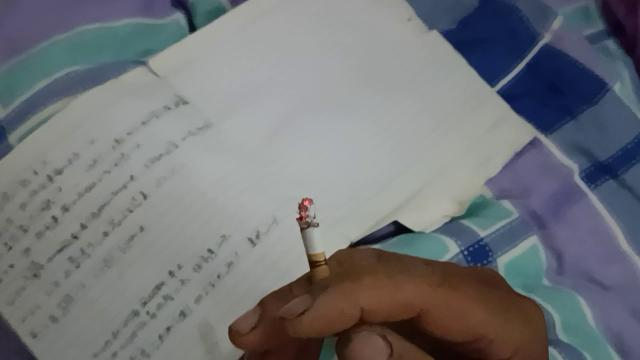Cigarette: (298, 198, 332, 296)
